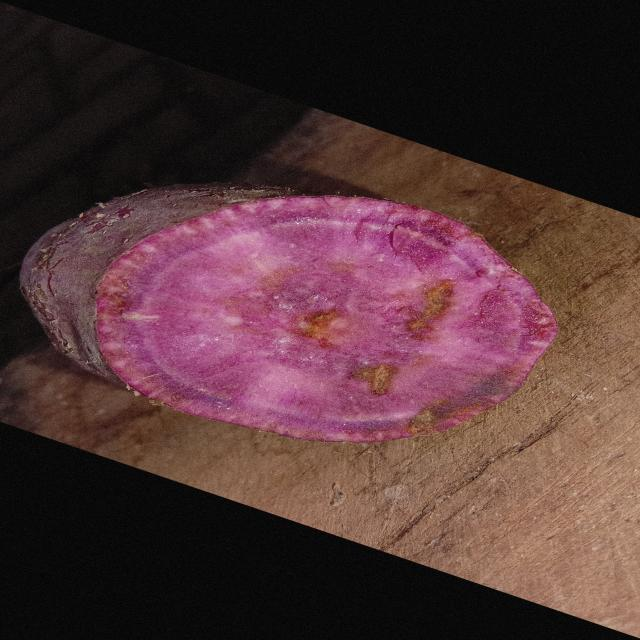Sick Sweet Potato_Tuber Rot: (98, 196, 556, 442)
